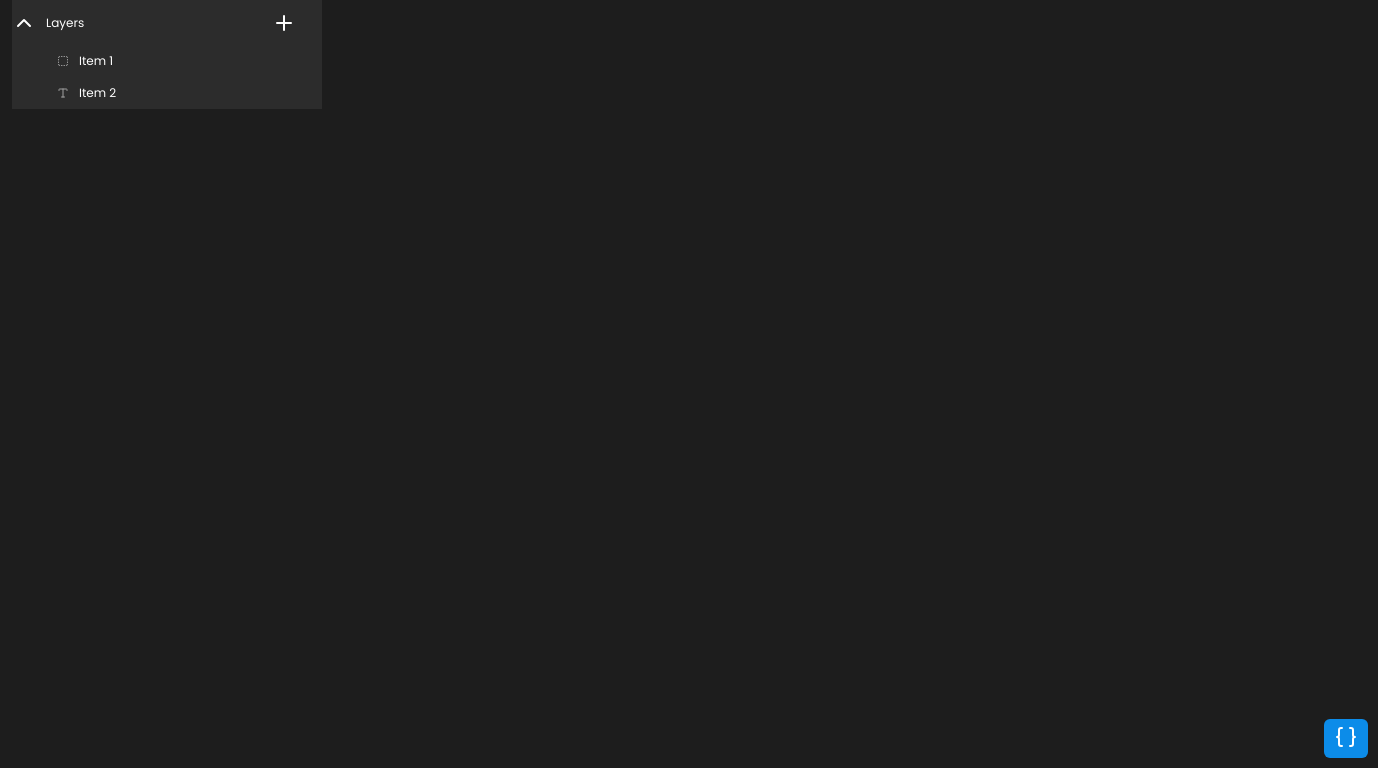
NestedMenu Interactions › clicking add button shows dropdown
Expected: the text "Container" is not shown
Expected: the text "Text" is not shown
Click the button named "add-header-button" at (284, 22), box [266,4,302,40]
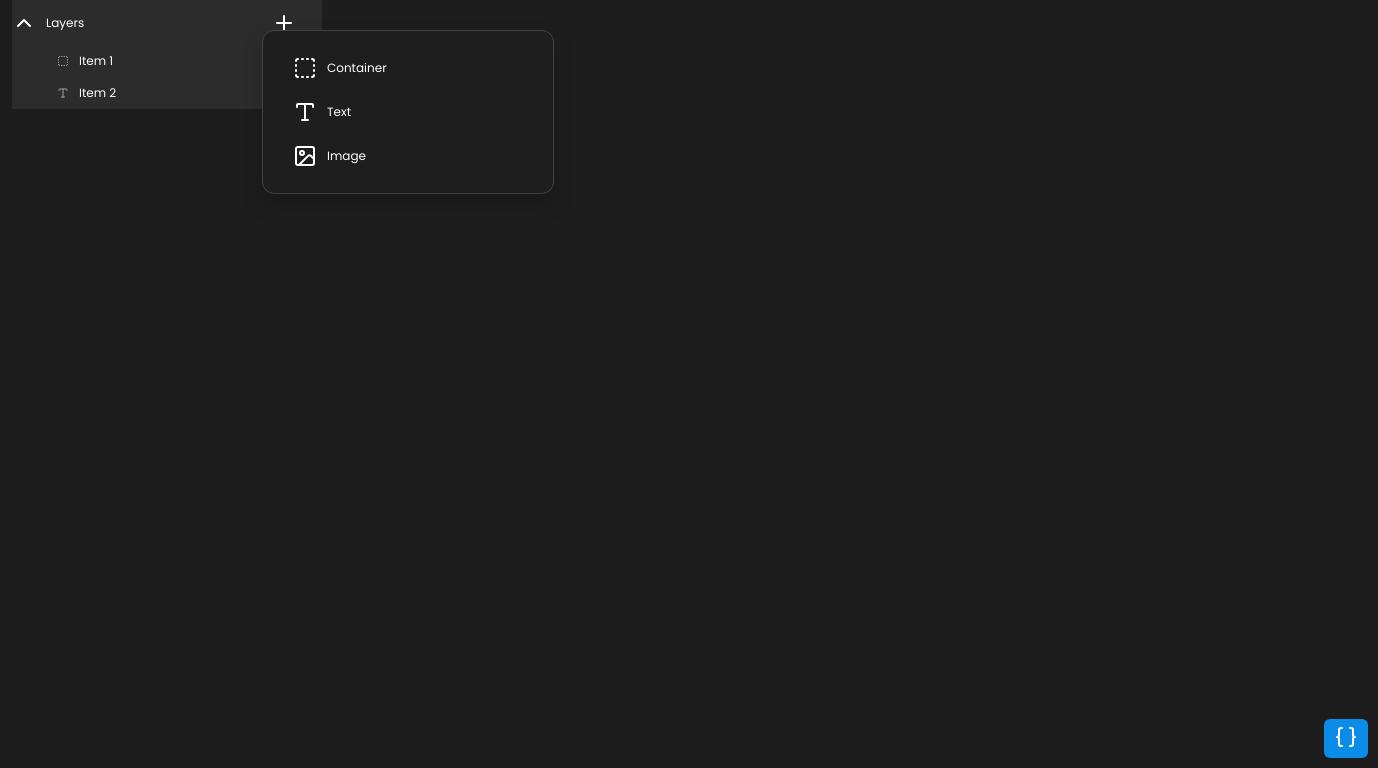
Expected: the text "Container" is shown, [327,59,387,77]
Expected: the text "Text" is shown, [327,103,351,121]
Expected: the text "Image" is shown, [327,147,366,165]
